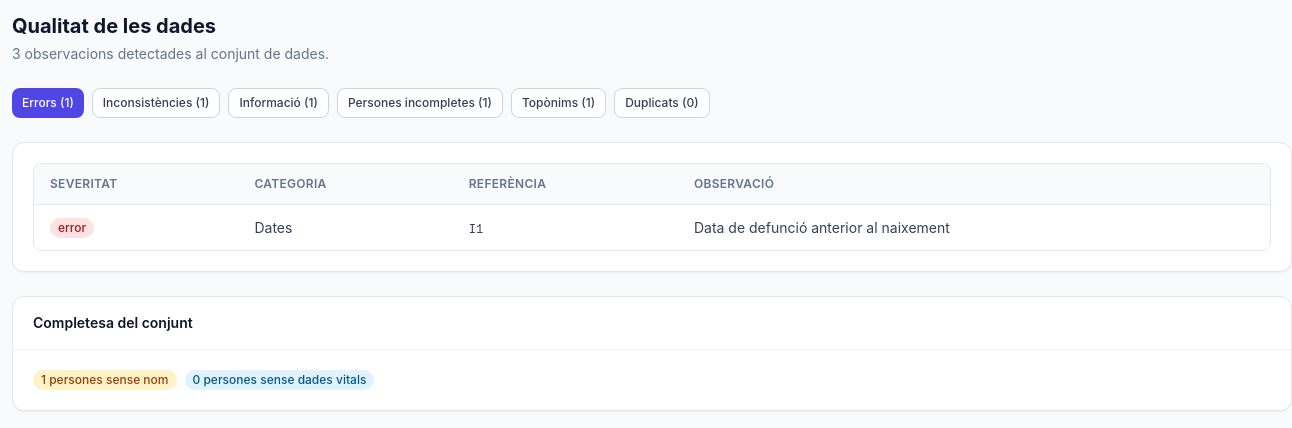
QualityPage › mostra les persones incompletes
Expected: the heading "Qualitat de les dades" is shown, [12, 14, 216, 38]
Step 1. Click the button "Persones incompletes (1)" → (420, 103), box [337, 88, 503, 118]
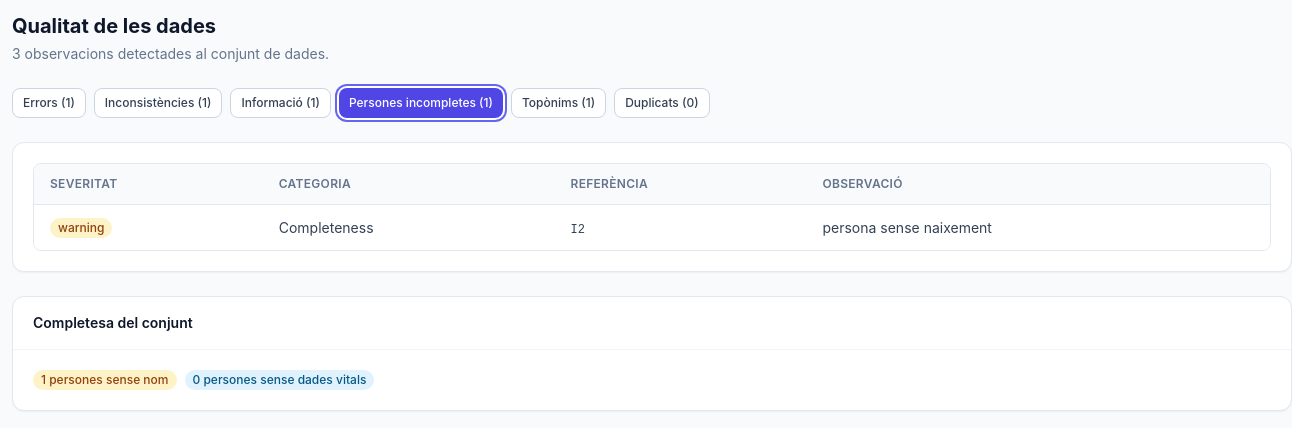
Now the text "persona sense naixement" is shown, box [822, 218, 992, 236]
